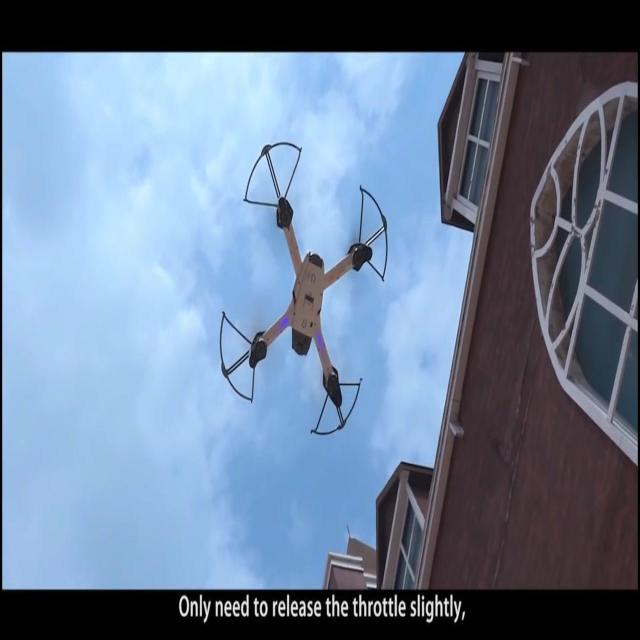UAV: (220, 142, 388, 436)
